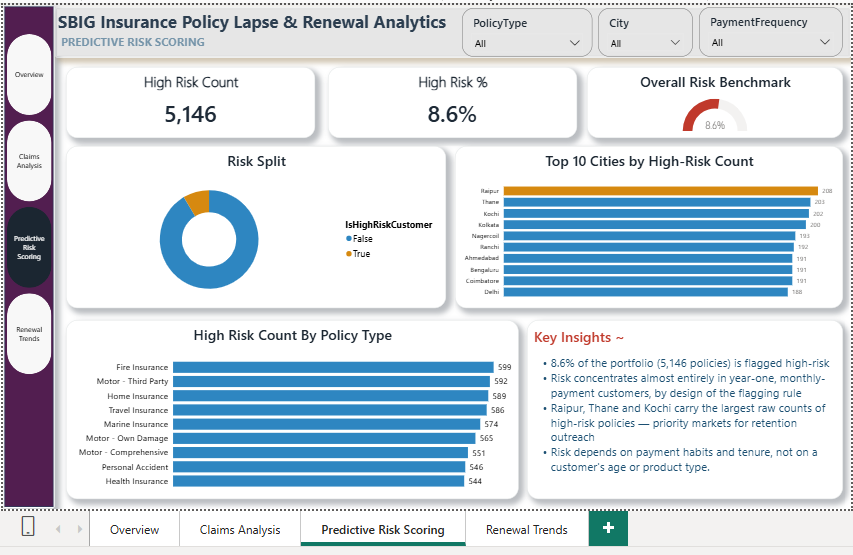

The page's visual inventory and layout, read from the dashboard file:
{"tool":"powerbi","page":{"name":"Predictive Risk Scoring","canvas":[1600,950],"ordinal":2},"visuals":[{"type":"shape","box":[0,0,98.1,950],"z":0},{"type":"shape","box":[98.1,3.8,1501.9,96.2],"z":1000},{"type":"textbox","box":[98.1,3.8,755,100],"z":2000},{"type":"slicer","fields":{"Values":["LapseRiskSummary.PolicyType"]},"box":[865.4,5.8,246,92.3],"z":3000},{"type":"slicer","fields":{"Values":["LapseRiskSummary.City"]},"box":[1123.1,5.8,178.8,92.3],"z":4000},{"type":"slicer","fields":{"Values":["LapseRiskSummary.PaymentFrequency"]},"box":[1313.5,3.8,271.2,94.2],"z":5000},{"type":"cardVisual","title":"High Risk Count","fields":{"Data":["all_measures.High Risk Count"]},"box":[118.9,117,469.8,134],"z":6000},{"type":"cardVisual","title":"High Risk %","fields":{"Data":["all_measures.High Risk %"]},"box":[613.2,117,469.8,134],"z":7000},{"type":"gauge","title":"Overall Risk Benchmark","fields":{"Y":["all_measures.High Risk %"]},"box":[1101.9,117,483,134],"z":8000},{"type":"donutChart","title":"Risk Split","fields":{"Category":["LapseRiskSummary.IsHighRiskCustomer"],"Y":["all_measures.Total Policies"]},"box":[118.9,266,717,305.7],"z":9000},{"type":"clusteredBarChart","title":"Top 10 Cities by High-Risk Count","fields":{"Category":["LapseRiskSummary.City"],"Y":["all_measures.High Risk Count"]},"box":[852.8,266,732.1,305.7],"z":10000},{"type":"clusteredBarChart","title":"High Risk Count By Policy Type","fields":{"Category":["LapseRiskSummary.PolicyType"],"Y":["all_measures.High Risk Count"]},"box":[119.2,594.2,853.8,338.5],"z":10001},{"type":"textbox","box":[988.5,594.2,596.2,338.5],"z":10002}]}

Visuals, with their boxes on the page's 1600x950 design canvas (x1, y1, x2, y2). These are canvas units, not pixel positions in the 853x555 screenshot, which may show the page scaled, cropped or inside an application window:
shape: [0,0,98,950]
shape: [98,4,1600,100]
textbox: [98,4,853,104]
slicer - LapseRiskSummary.PolicyType: [865,6,1111,98]
slicer - LapseRiskSummary.City: [1123,6,1302,98]
slicer - LapseRiskSummary.PaymentFrequency: [1314,4,1585,98]
"High Risk Count" cardVisual: [119,117,589,251]
"High Risk %" cardVisual: [613,117,1083,251]
"Overall Risk Benchmark" gauge: [1102,117,1585,251]
"Risk Split" donutChart: [119,266,836,572]
"Top 10 Cities by High-Risk Count" clusteredBarChart: [853,266,1585,572]
"High Risk Count By Policy Type" clusteredBarChart: [119,594,973,933]
textbox: [988,594,1585,933]
